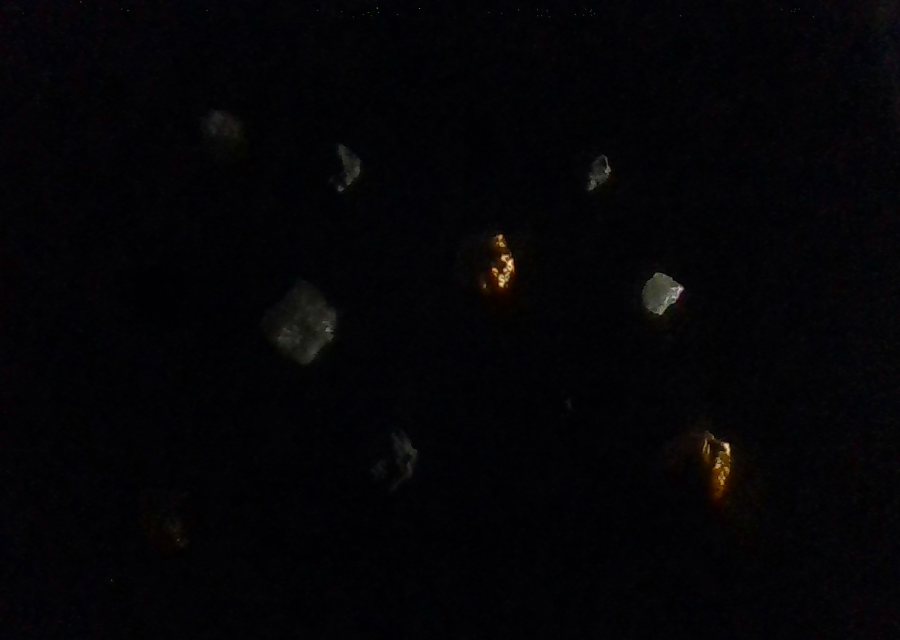anorthosite: (259, 275, 337, 365), (199, 108, 250, 167), (641, 272, 684, 317)
basalt: (132, 267, 184, 318), (526, 385, 572, 425), (461, 117, 505, 156)
metal: (654, 430, 731, 502), (452, 231, 515, 300), (137, 485, 198, 550)
regolith: (356, 422, 420, 495), (305, 138, 362, 193), (569, 149, 614, 193)
